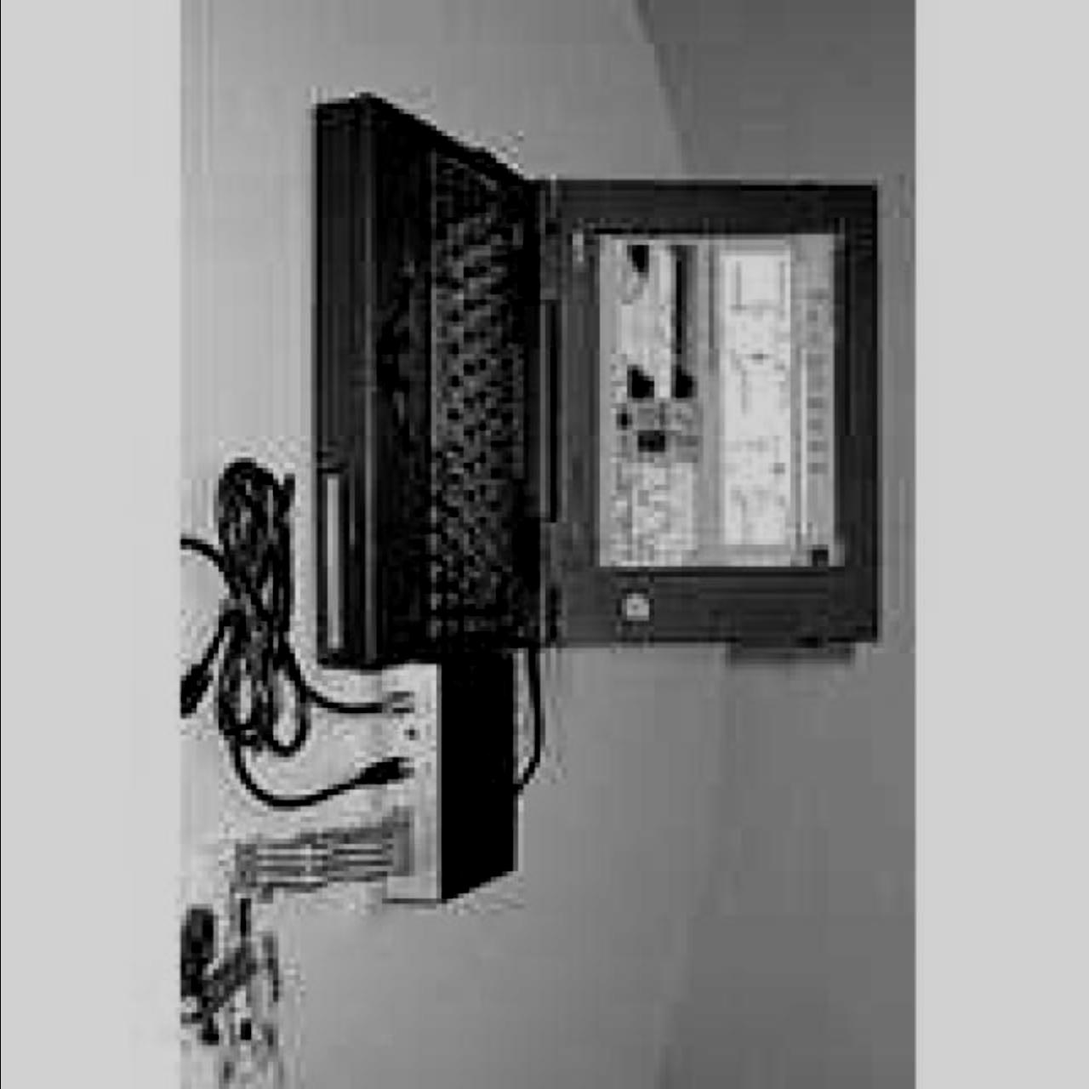laptop: (285, 175, 909, 655)
